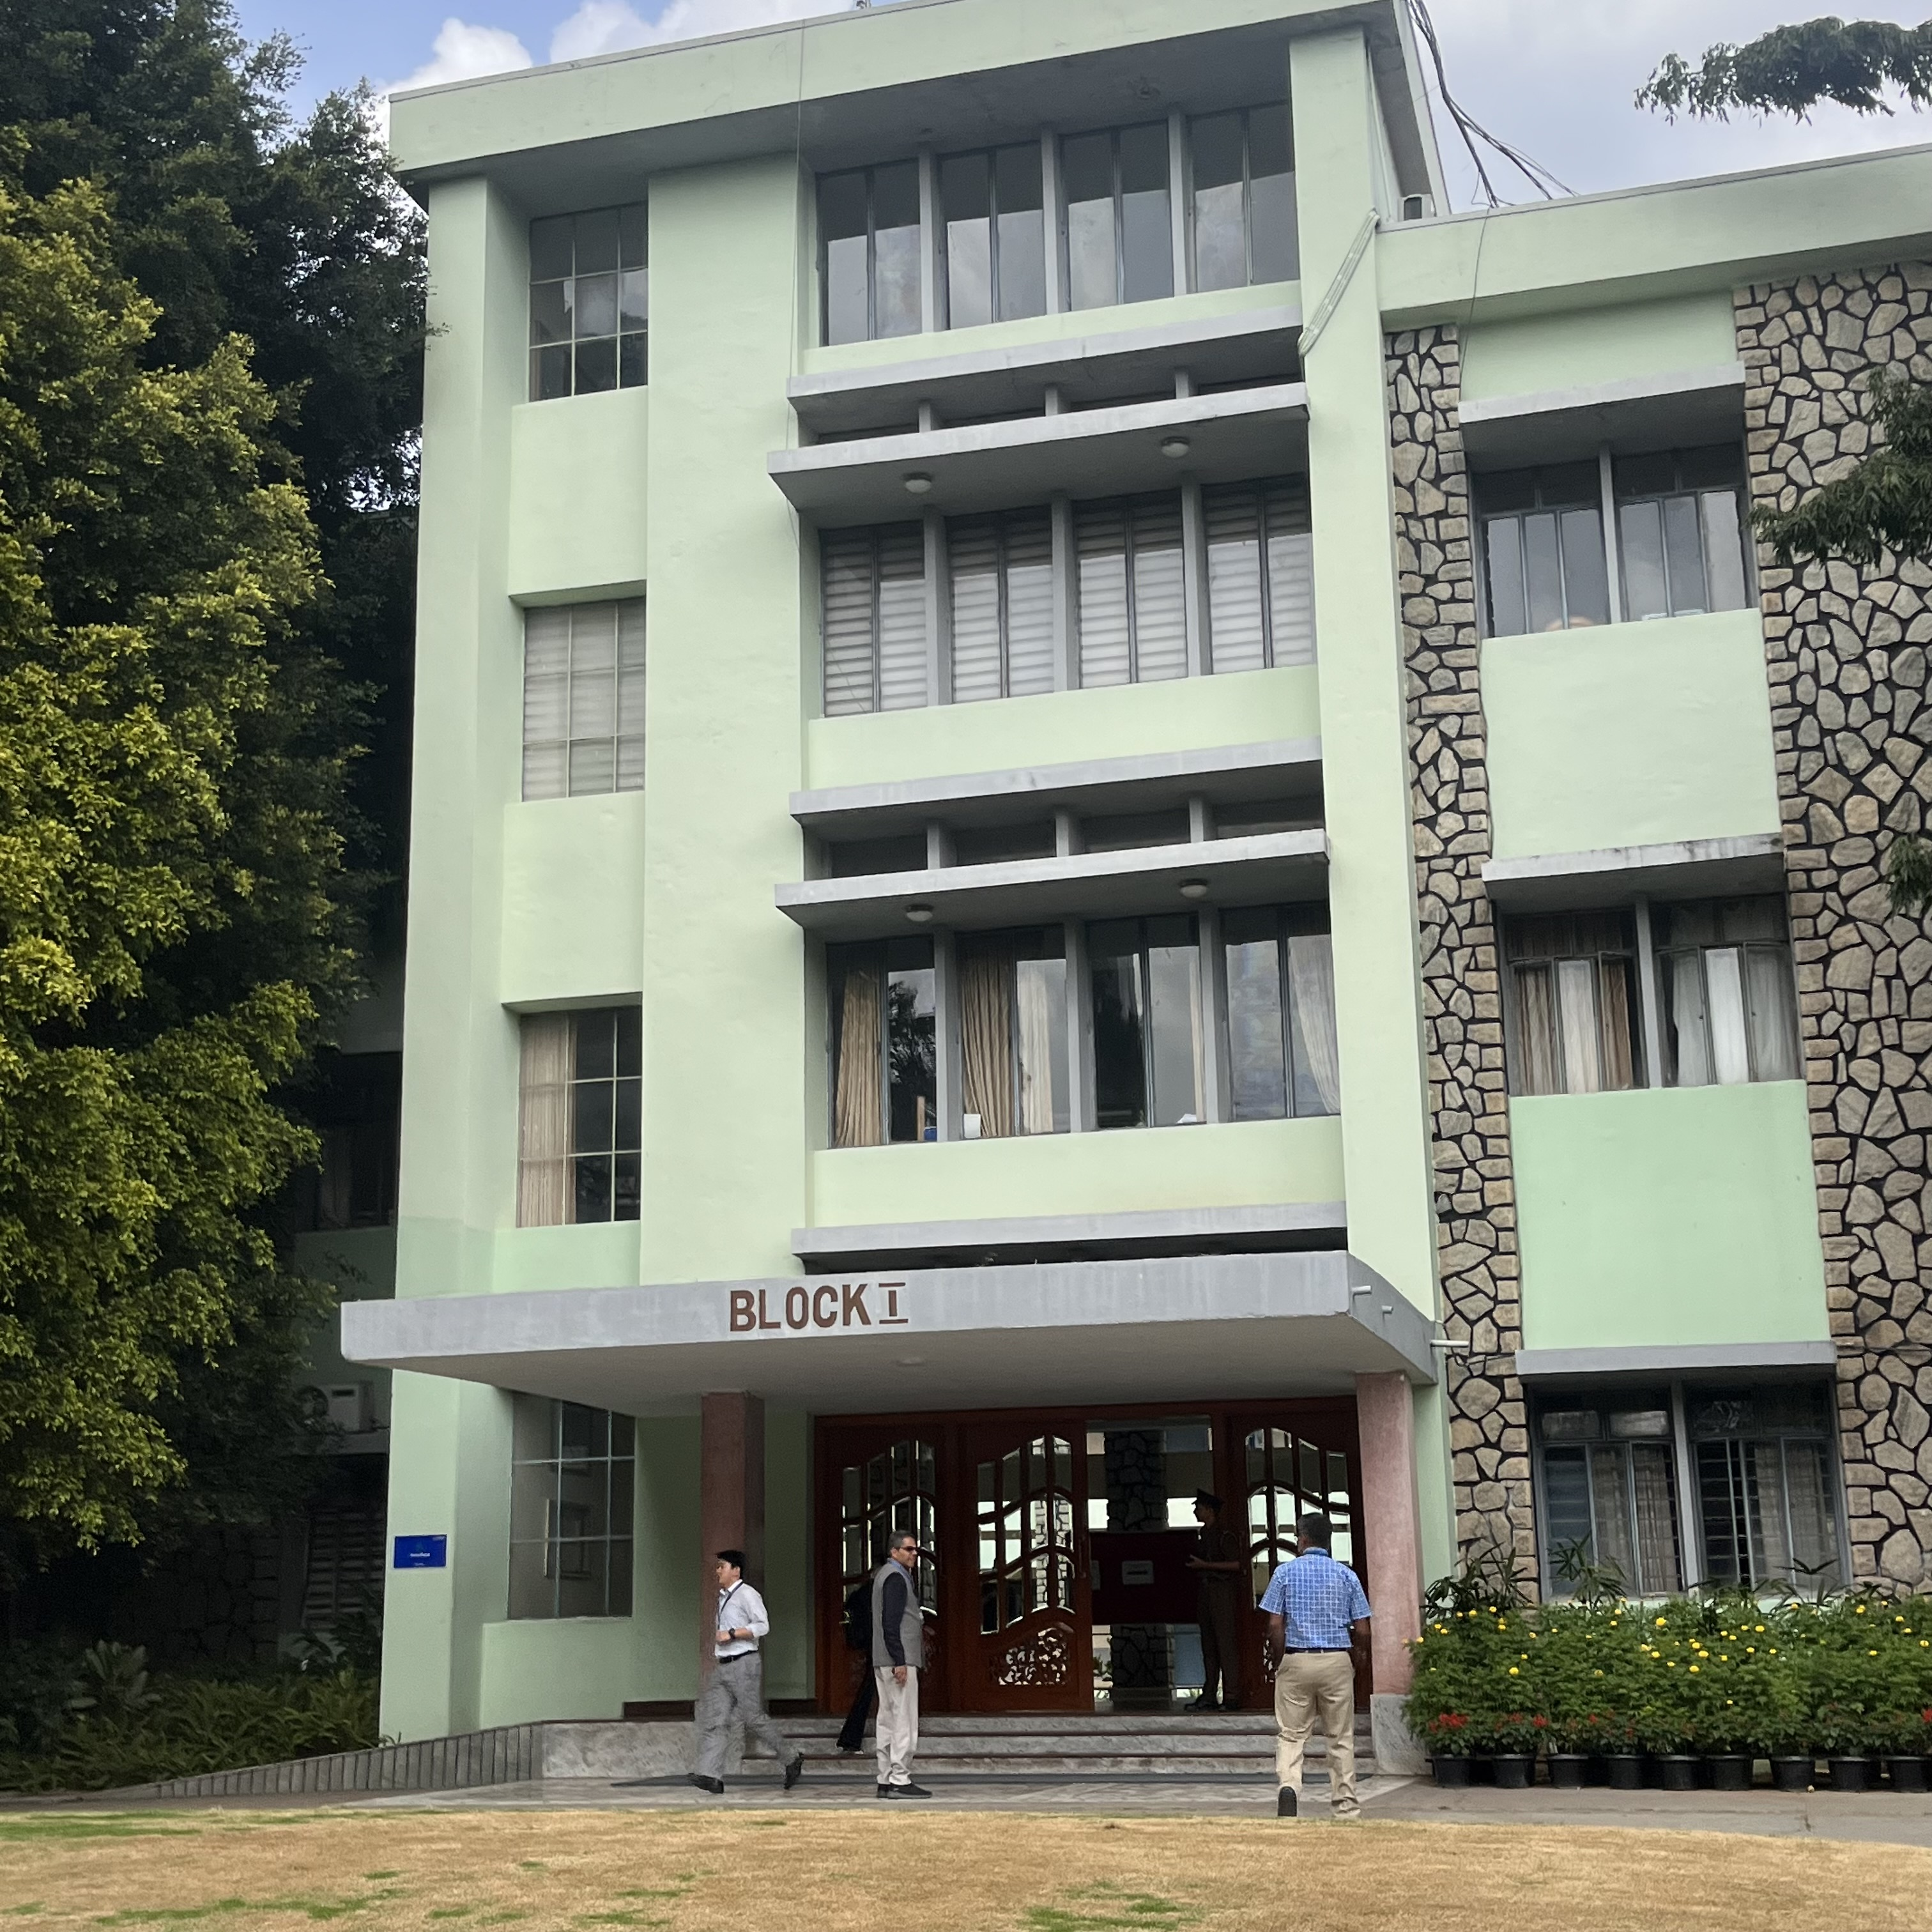Block 1: (379, 57, 1879, 1743)
